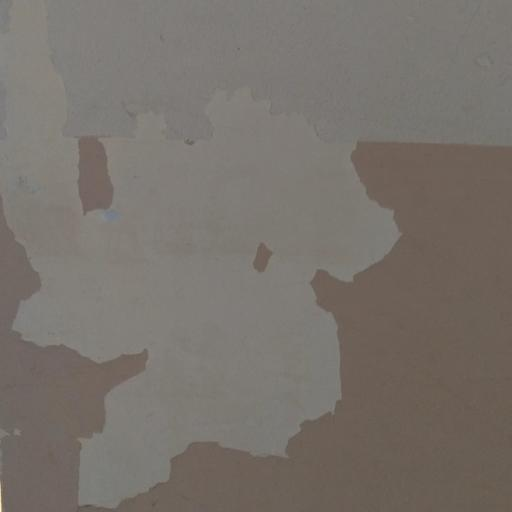peeling: (0, 0, 397, 499)
